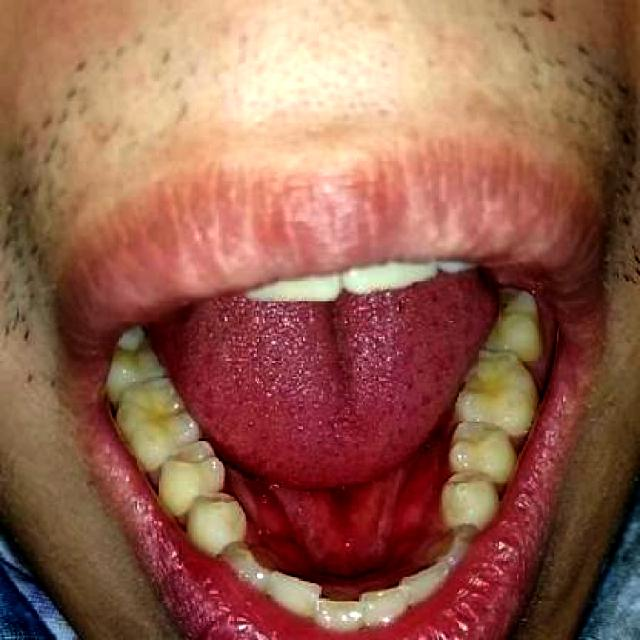Plaque: (499, 301, 514, 313)
